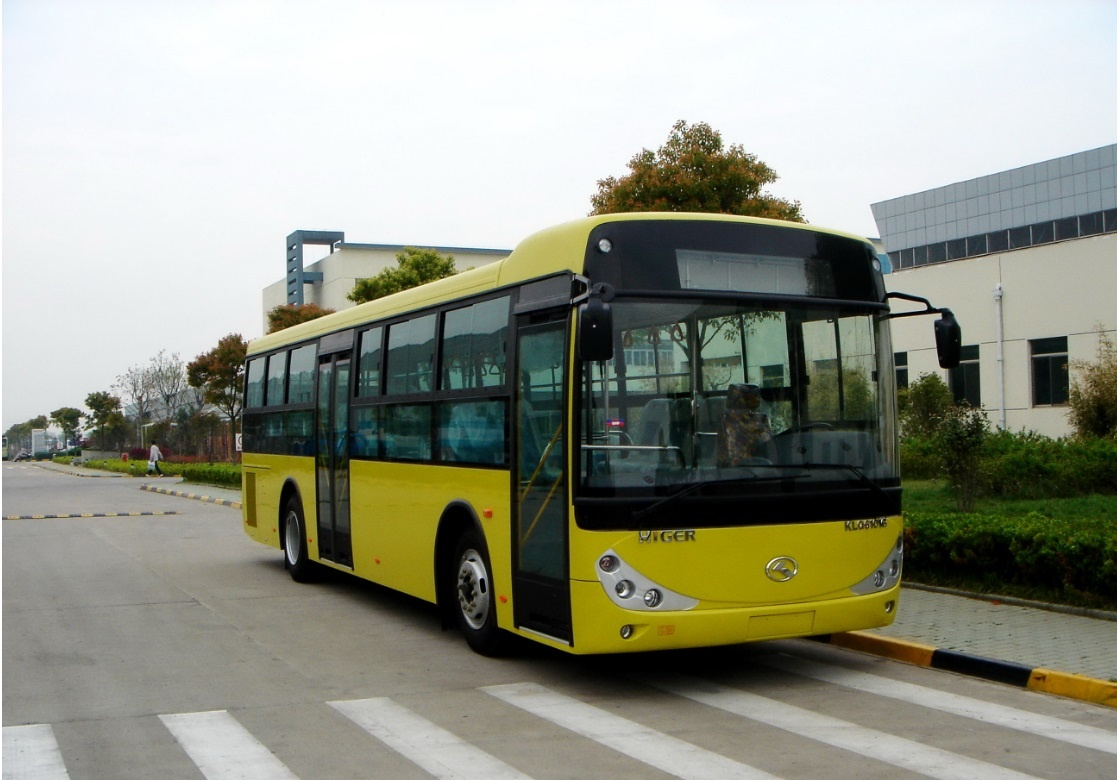bus: (230, 203, 918, 663)
